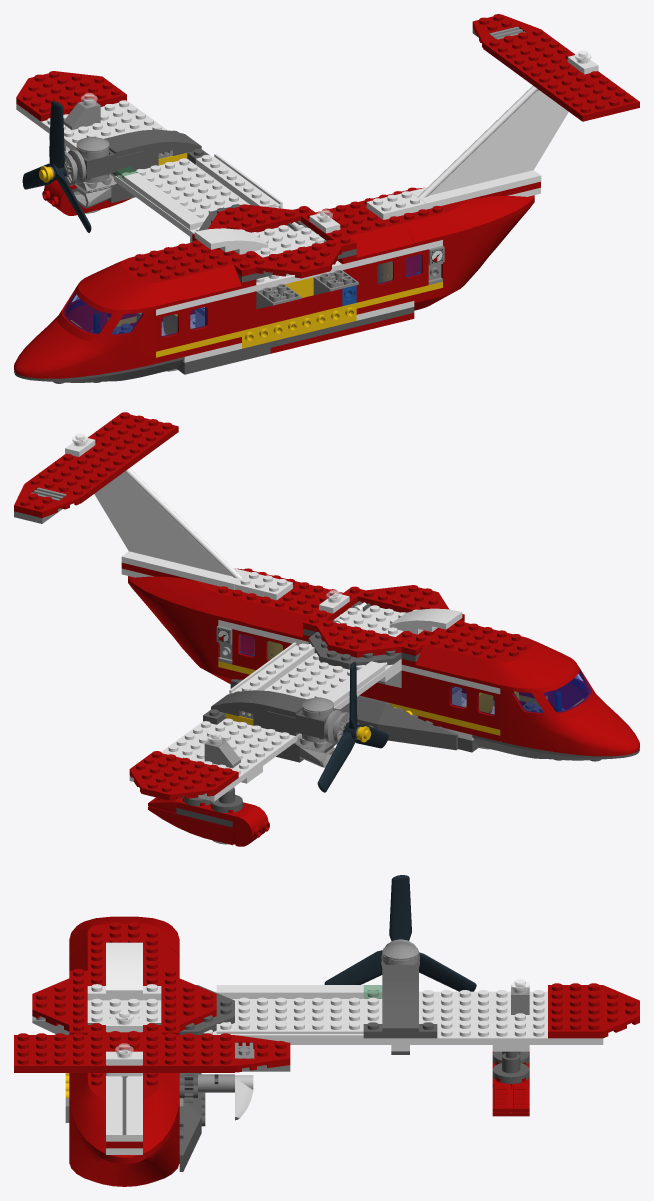
The model's file is 010-B-fire_plane_only.glb.
3 renders of one model, top to bottom at view 1: azimuth 30°, elevation 25°; view 2: azimuth 150°, elevation 25°; view 3: azimuth 270°, elevation 25°, orthographic. The views are drawn at different scales.
Visible parts, largest first — view 1: 87613.dat, 87614.dat, 32083.dat (×2), 3029.dat, 3026.dat, 2419.dat (×3), 3666.dat (×8), 87615.dat, 87616.dat, 61345.dat (×2), 4477.dat (×3), 30414.dat (×2) (+20 smaller); view 2: 87613.dat, 87614.dat, 2419.dat (×4), 3026.dat, 32083.dat (×2), 3029.dat, 87615.dat, 87616.dat, 30382.dat, 61345.dat (×2), 30332.dat, 61678.dat (×2) (+18 smaller); view 3: 3026.dat, 3029.dat, 2419.dat (×4), 87615.dat, 61678.dat (×4), 87616.dat, 30332.dat, 87614.dat, 4510.dat, 87613.dat, 32083.dat, 3795.dat (+14 smaller).
Part boxes in pixels (left/top/right/bottom): 87613.dat: left=14, top=254, right=184, bottom=378; 87614.dat: left=410, top=86, right=568, bottom=209; 32083.dat (×2): left=143, top=198, right=414, bottom=302; 3029.dat: left=483, top=28, right=639, bottom=121; 3026.dat: left=16, top=100, right=249, bottom=237; 2419.dat (×3): left=16, top=71, right=342, bottom=278; 3666.dat (×8): left=155, top=206, right=442, bottom=363; 87615.dat: left=373, top=187, right=534, bottom=246; 87616.dat: left=405, top=200, right=534, bottom=310; 61345.dat (×2): left=156, top=249, right=428, bottom=351; 4477.dat (×3): left=156, top=240, right=442, bottom=368; 30414.dat (×2): left=242, top=303, right=356, bottom=348; 87613.dat: left=472, top=634, right=639, bottom=756; 87614.dat: left=94, top=468, right=250, bottom=589; 2419.dat (×4): left=129, top=585, right=449, bottom=800; 3026.dat: left=129, top=643, right=401, bottom=801; 32083.dat (×2): left=246, top=578, right=512, bottom=681; 3029.dat: left=24, top=412, right=178, bottom=503; 87615.dat: left=128, top=568, right=286, bottom=626; 87616.dat: left=128, top=581, right=254, bottom=683; 30382.dat: left=230, top=679, right=457, bottom=750; 61345.dat (×2): left=232, top=629, right=500, bottom=729; 30332.dat: left=317, top=662, right=388, bottom=792; 61678.dat (×2): left=211, top=614, right=454, bottom=716; 3026.dat: left=203, top=990, right=603, bottom=1044; 3029.dat: left=14, top=1033, right=234, bottom=1072; 2419.dat (×4): left=32, top=976, right=639, bottom=1038; 87615.dat: left=69, top=1073, right=179, bottom=1161; 61678.dat (×4): left=106, top=942, right=418, bottom=1031; 87616.dat: left=69, top=1104, right=179, bottom=1186; 30332.dat: left=324, top=875, right=476, bottom=991; 87614.dat: left=106, top=1073, right=142, bottom=1141; 4510.dat: left=216, top=1022, right=363, bottom=1041; 87613.dat: left=69, top=916, right=179, bottom=955; 32083.dat: left=69, top=937, right=179, bottom=970; 3795.dat: left=548, top=983, right=584, bottom=1038.
Size of the model in its own units: 0.3201 by 0.1104 by 0.272.
